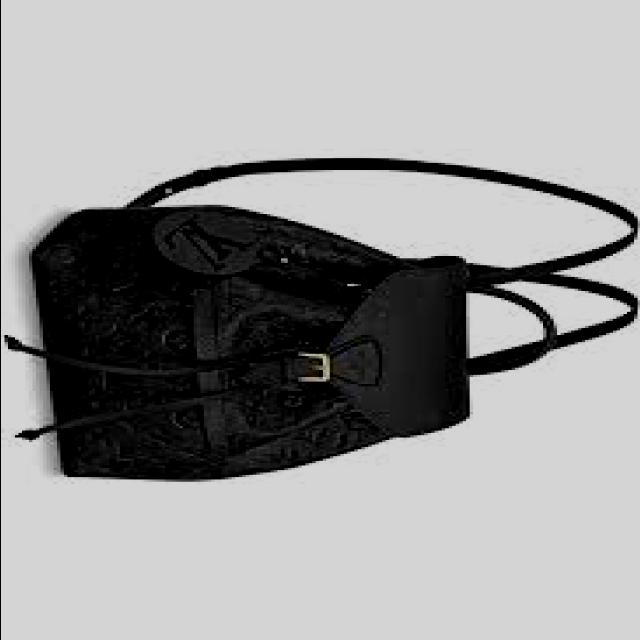backpack: (8, 157, 640, 483)
